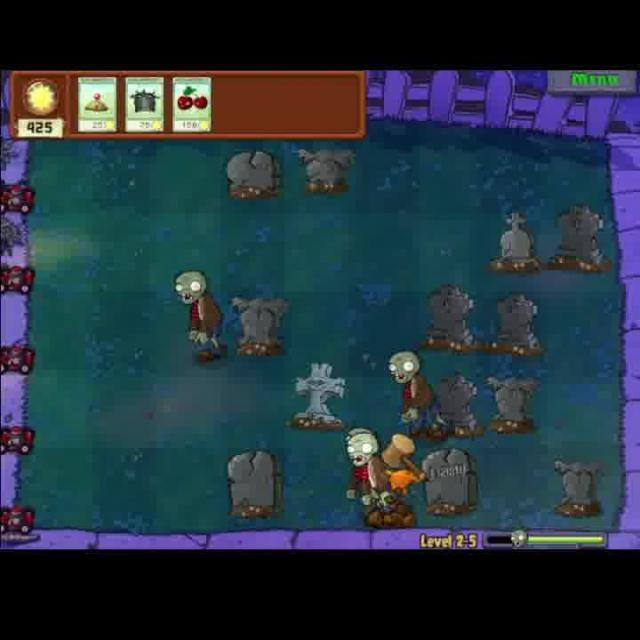zombies: (342, 424, 399, 527), (169, 268, 227, 366), (386, 348, 446, 439)
